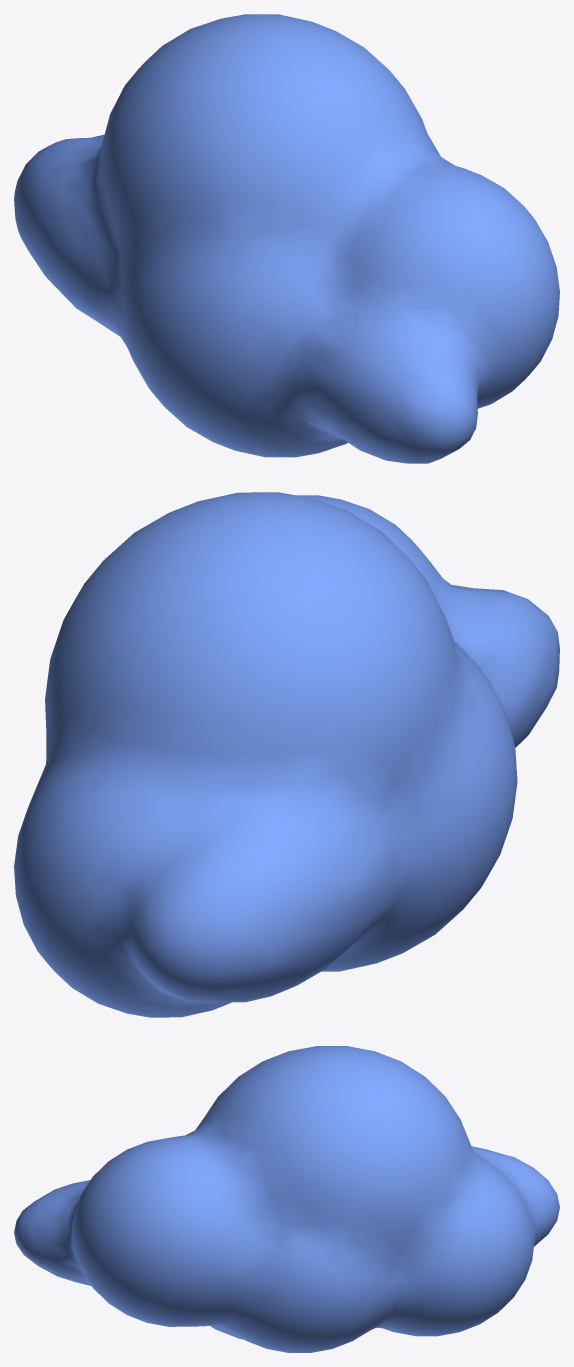
The model's file is cloud-b.glb.
3 views of the same model, one above another, from view 1: azimuth 30°, elevation 25°; view 2: azimuth 150°, elevation 25°; view 3: azimuth 270°, elevation 25° (orthographic). The views are drawn at different scales.
Visible parts, largest first — view 1: cloud; view 2: cloud; view 3: cloud.
Boxes of the visible parts, x1=… form: cloud: x1=14, y1=14, x2=559, y2=463; cloud: x1=14, y1=492, x2=559, y2=1017; cloud: x1=14, y1=1046, x2=559, y2=1352.
Bounding box in the file's own units: 0.9442 × 1.04 × 1.79.
